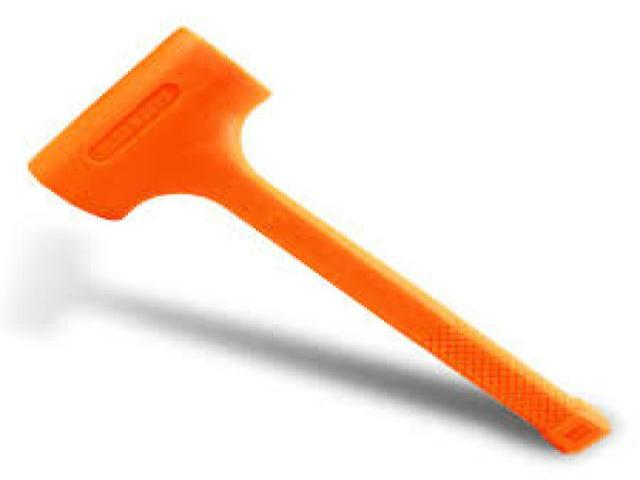hammer: (28, 24, 613, 454)
